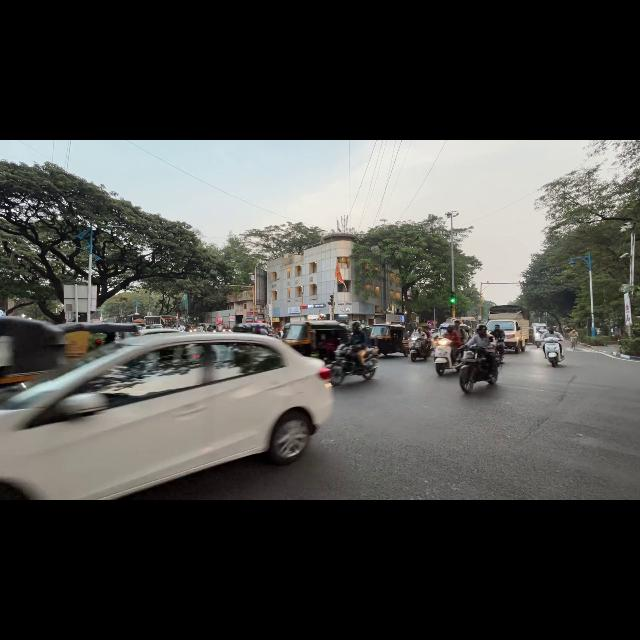bus: (145, 315, 177, 327), (458, 317, 477, 331)
car: (0, 333, 332, 499), (123, 328, 183, 338), (138, 328, 183, 335)
motorcycle: (331, 344, 377, 386), (460, 345, 496, 393), (433, 338, 460, 375), (409, 335, 431, 361), (544, 337, 563, 367), (496, 338, 504, 364), (535, 333, 542, 347)
truck: (487, 305, 529, 353)
